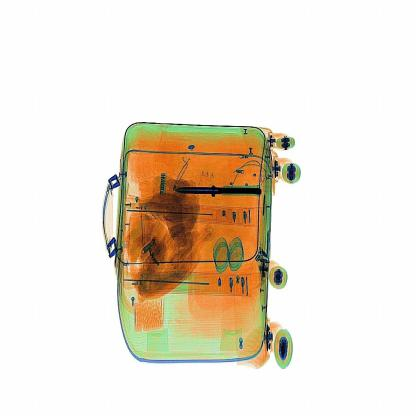gun: (165, 178, 268, 200)
